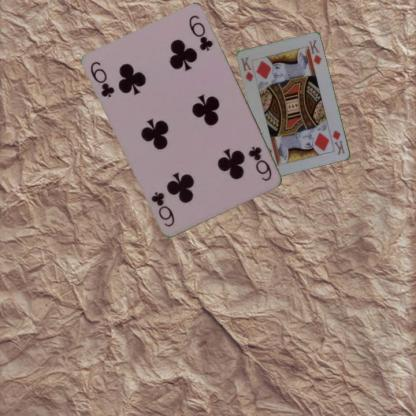6c: (246, 143, 275, 183), (88, 58, 116, 99)
Kd: (239, 54, 258, 84), (330, 128, 347, 156)
